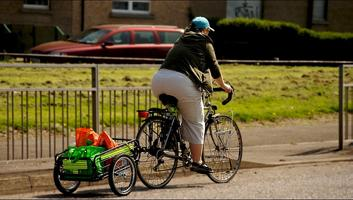person: (153, 18, 234, 174)
